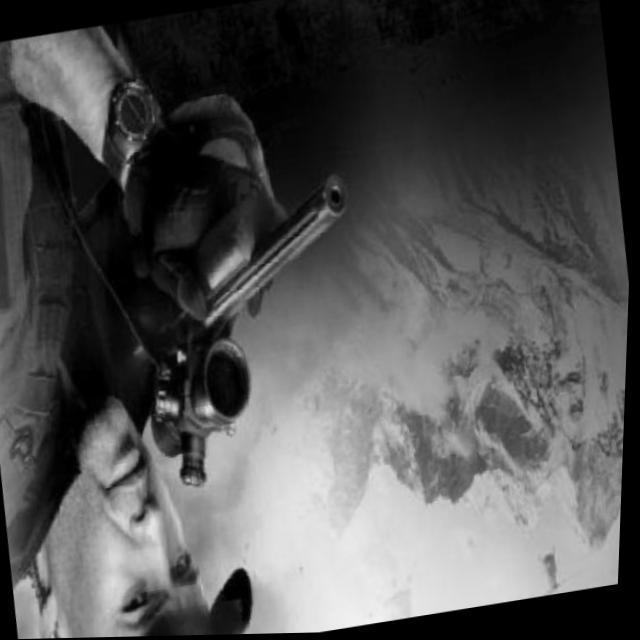weapon: (34, 134, 378, 515)
